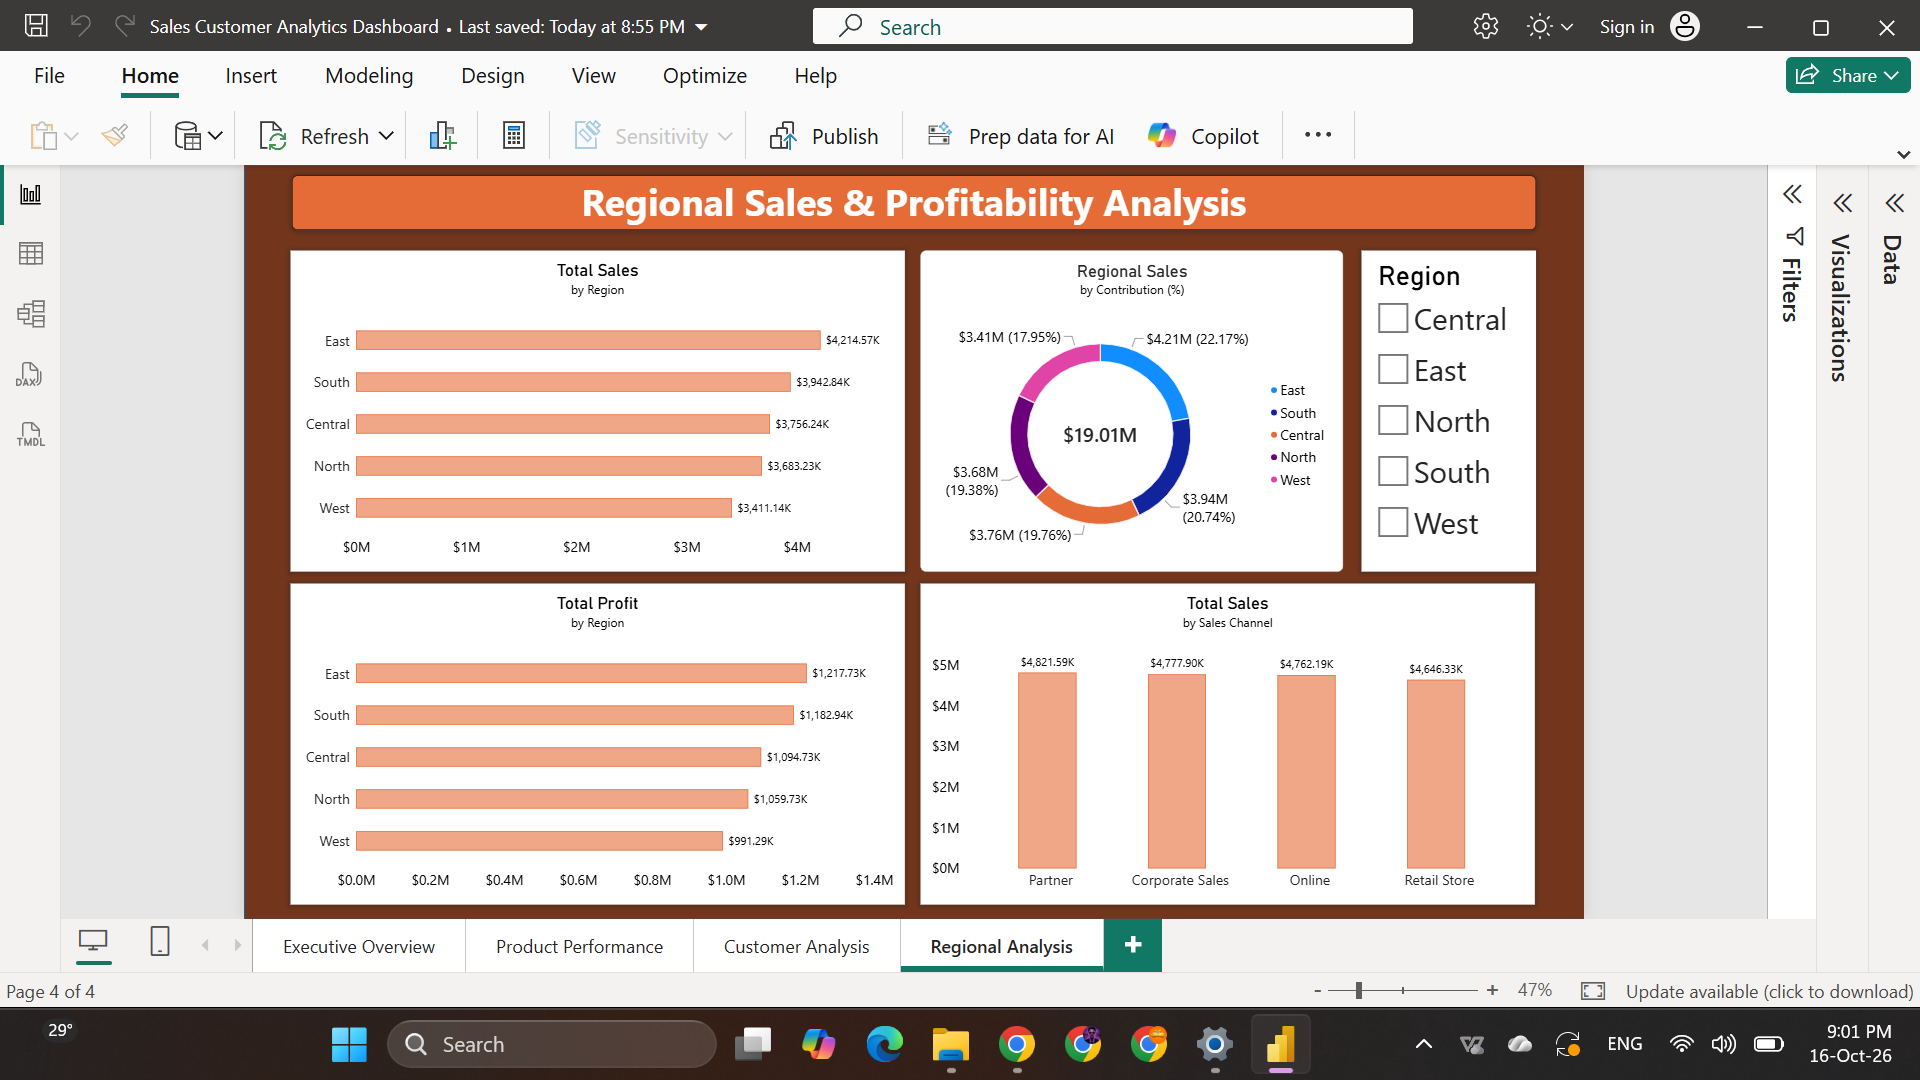

Layout of this report page (visuals, bound fields, positions):
{"tool":"powerbi","page":{"name":"Regional Analysis","canvas":[1920,1080],"ordinal":3},"visuals":[{"type":"shape","box":[0,0,1920.8,1080.7],"z":0},{"type":"textbox","box":[68,16,1782,78],"z":1000},{"type":"clusteredBarChart","fields":{"Category":["Raw Sales Data.Region"],"Y":["Raw Sales Data.Total Sales"]},"box":[67.5,122.5,880,460],"z":2000},{"type":"clusteredBarChart","fields":{"Category":["Raw Sales Data.Region"],"Y":["Raw Sales Data.Total Profit"]},"box":[67.5,600,880,460],"z":3000},{"type":"clusteredColumnChart","fields":{"Category":["Raw Sales Data.Sales Channel"],"Y":["Raw Sales Data.Total Sales"]},"box":[970,600,880,460],"z":3001},{"type":"slicer","fields":{"Values":["Raw Sales Data.Region"]},"box":[1600,122.5,250,460],"z":3002},{"type":"donutChart","fields":{"Category":["Raw Sales Data.Region"],"Y":["Raw Sales Data.Total Sales"]},"box":[970,122.5,605,460],"z":3003}]}

Visuals, with their boxes on the page's 1920x1080 design canvas (x1, y1, x2, y2). These are canvas units, not pixel positions in the 1920x1080 screenshot, which may show the page scaled, cropped or inside an application window:
shape: 0 0 1921 1081
textbox: 68 16 1850 94
clusteredBarChart - Raw Sales Data.Region x Raw Sales Data.Total Sales: 68 122 948 582
clusteredBarChart - Raw Sales Data.Region x Raw Sales Data.Total Profit: 68 600 948 1060
clusteredColumnChart - Raw Sales Data.Sales Channel x Raw Sales Data.Total Sales: 970 600 1850 1060
slicer - Raw Sales Data.Region: 1600 122 1850 582
donutChart - Raw Sales Data.Region x Raw Sales Data.Total Sales: 970 122 1575 582
